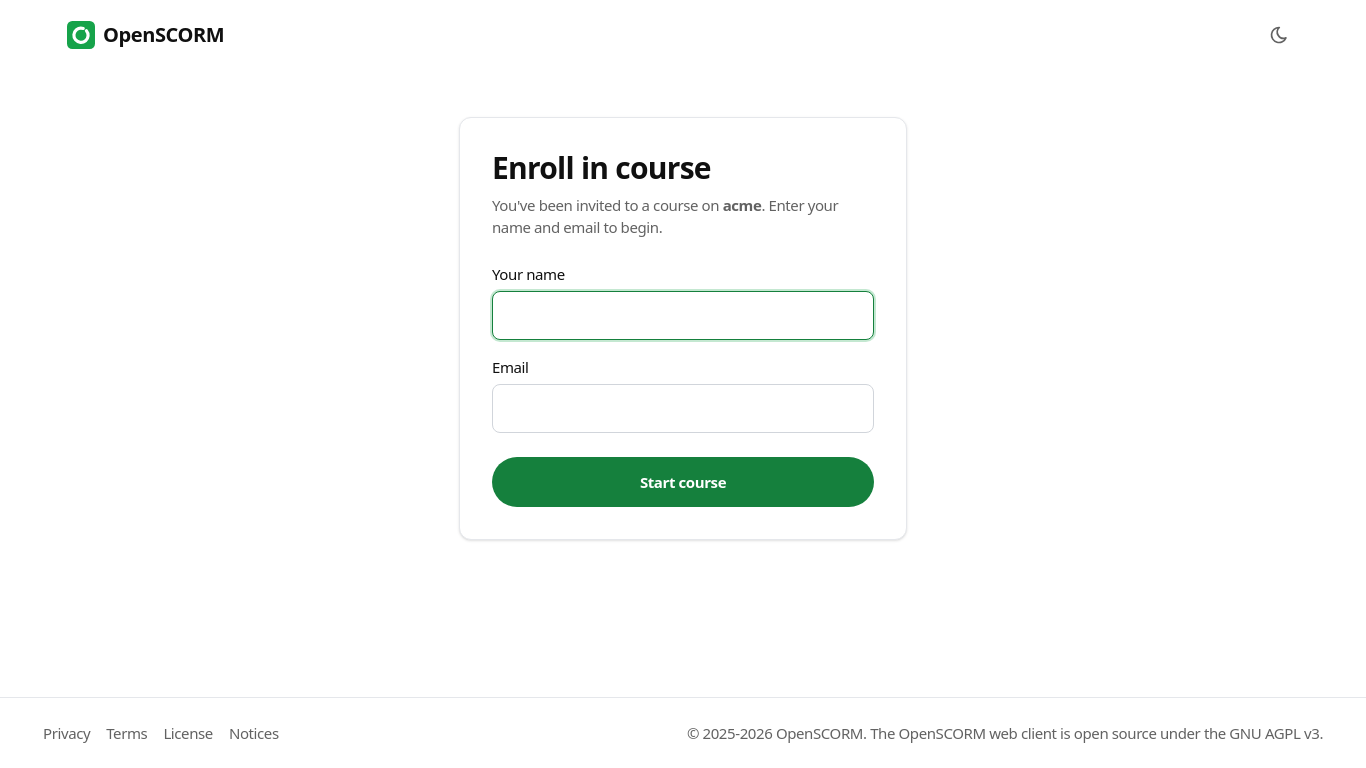
Test: EnrollPage confirmed email › tells the learner to check their email and signs nobody in
Type "Alex" into the field labelled "Your name" at [683, 315], box 492,291 -> 874,340
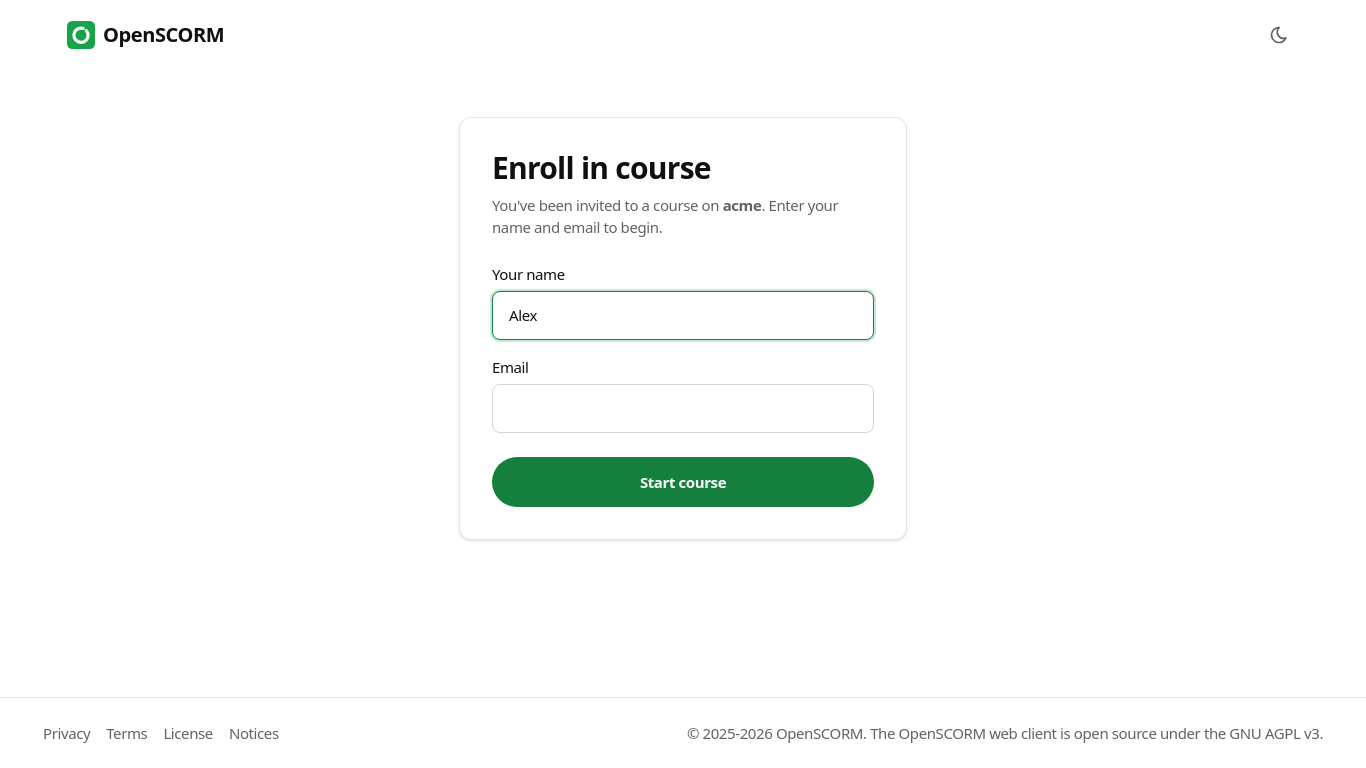
Type "alex@acme.test" into the field labelled "Email" at [683, 408], box 492,384 -> 874,433
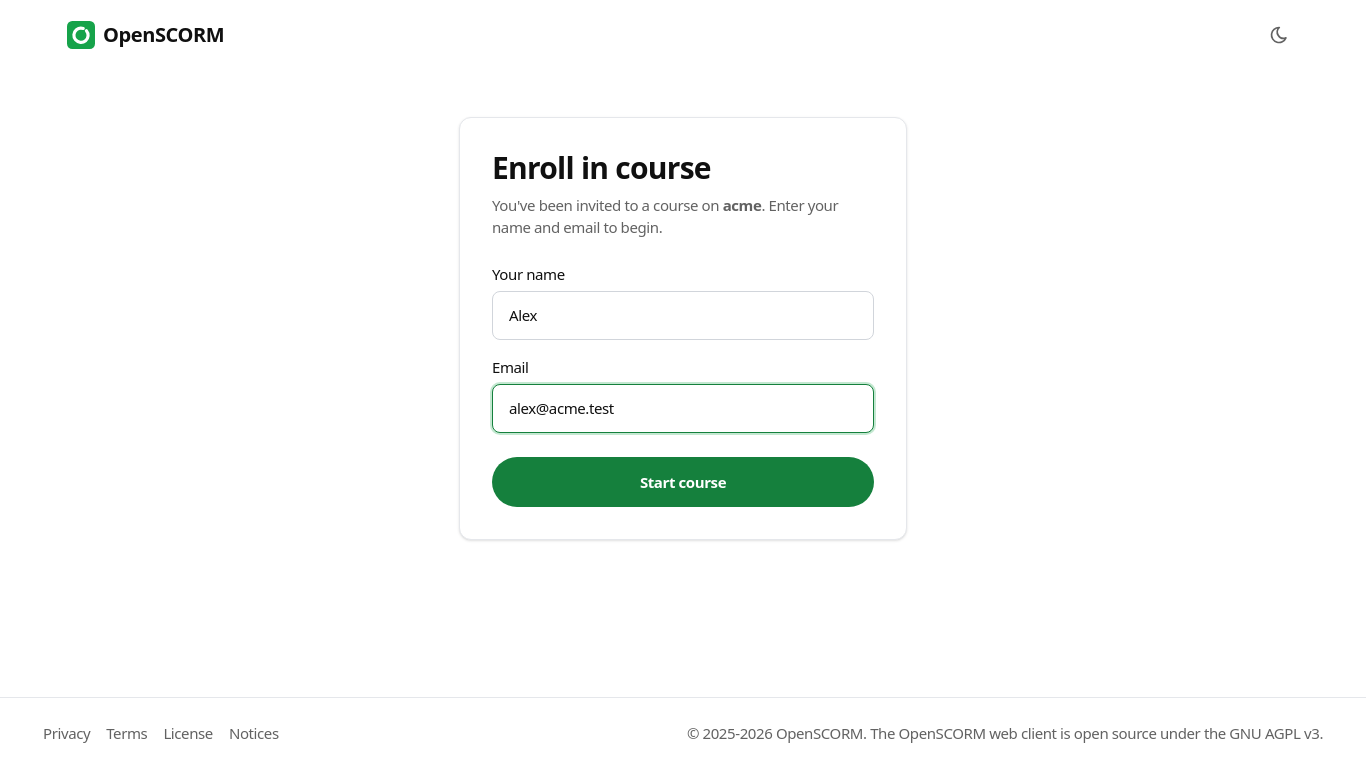
Click the button "Start course" at [683, 482], box 492,457 -> 874,507
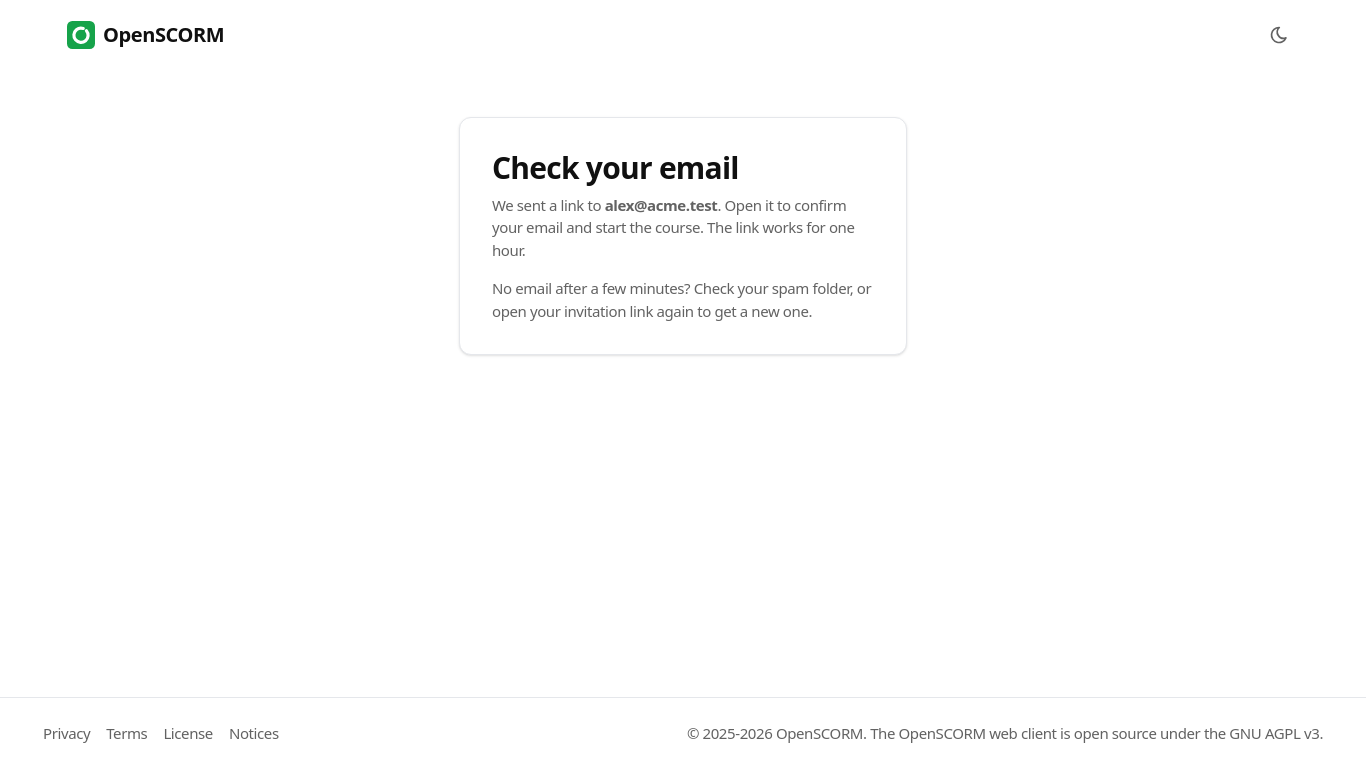
Check: the heading "Check your email" is shown, box 492,147 -> 739,188
Check: the text "alex@acme.test" is shown, box 605,195 -> 717,215
